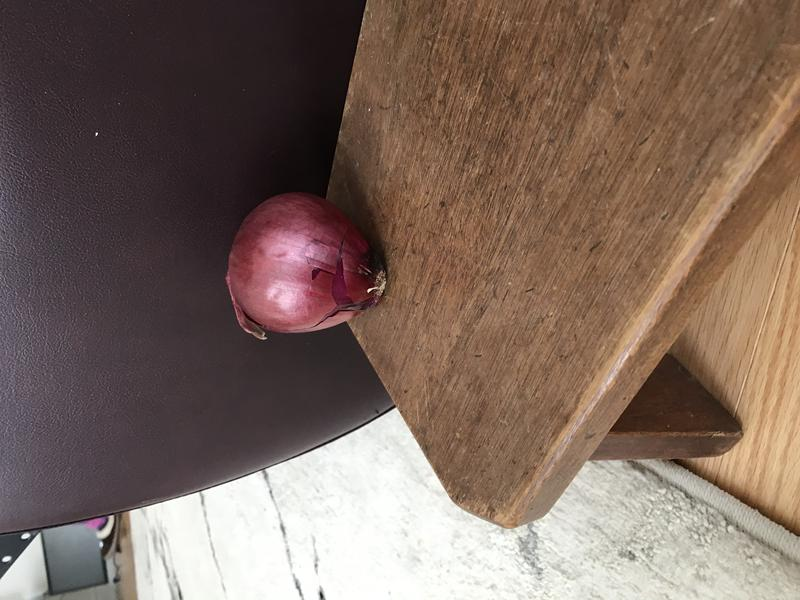purple_onion: (220, 182, 394, 355)
